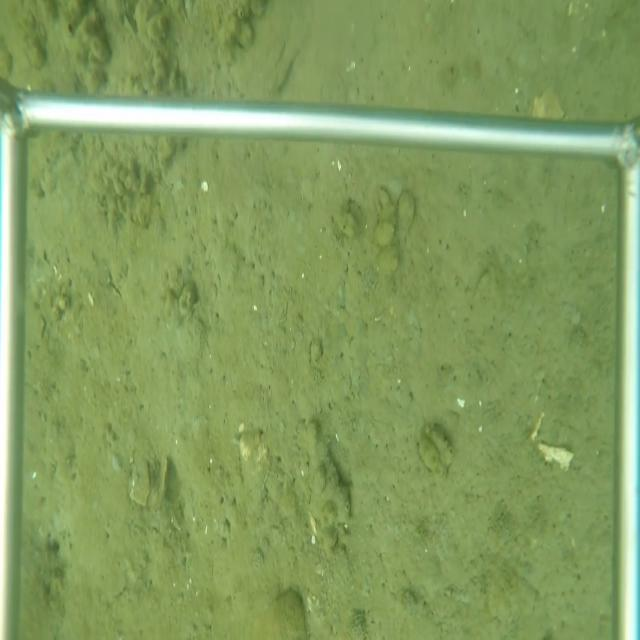Oyster-Closed: (156, 456, 172, 508)
Oyster-Indeterminate: (293, 413, 355, 553)
